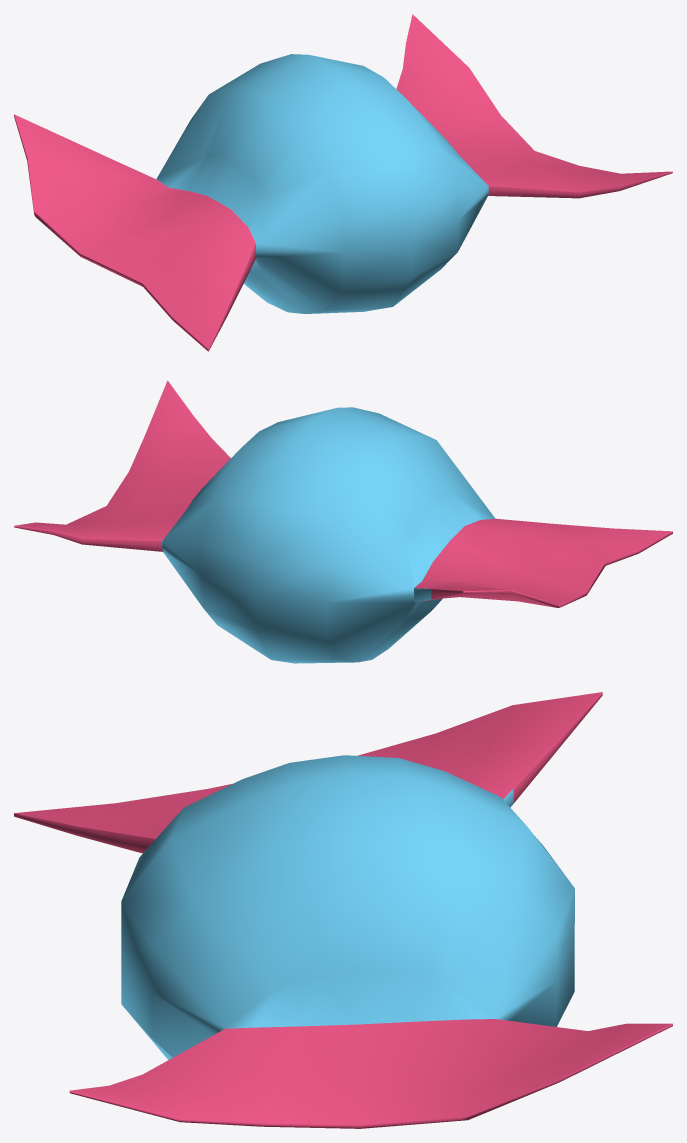
Rendered from SM_SM_Candies.fbx.
3 renders of one model, top to bottom at view 1: azimuth 30°, elevation 25°; view 2: azimuth 150°, elevation 25°; view 3: azimuth 270°, elevation 25°, orthographic. The views are drawn at different scales.
Visible parts, largest first — view 1: SM_SM_Candies; view 2: SM_SM_Candies; view 3: SM_SM_Candies.
Boxes of the visible parts, <box> form: SM_SM_Candies: <box>14,14,672,351</box>; SM_SM_Candies: <box>14,380,672,663</box>; SM_SM_Candies: <box>14,692,672,1128</box>.
Size of the model in its own units: 12.24 by 9.28 by 5.28.
Materials: 1 (1 with a texture image).
